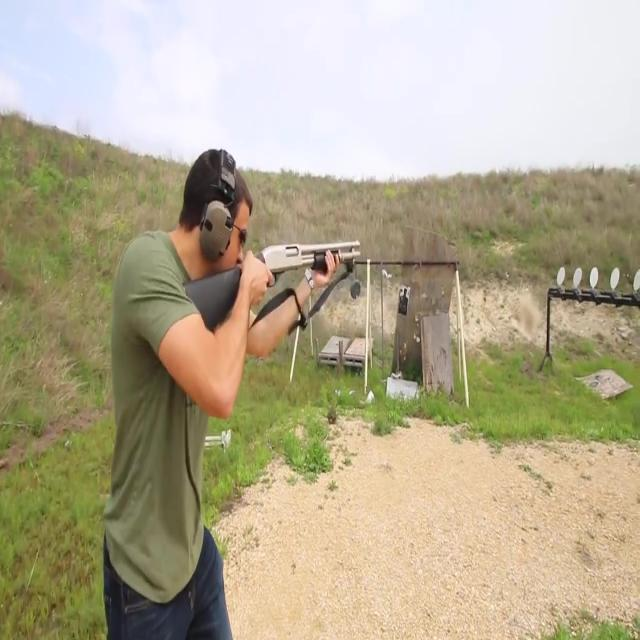Weapon: (170, 230, 406, 318)
